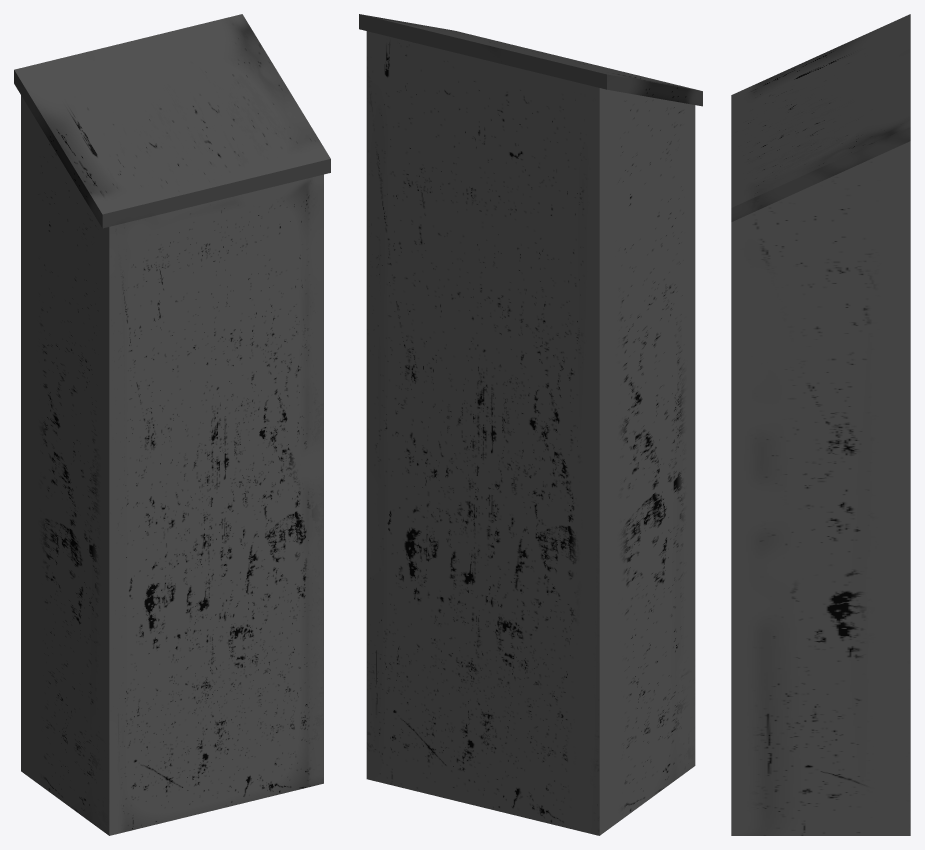
Rendered from Base_Ground_2x3_Ramp_V1.fbx.
3 renders of one model, left to right at view 1: azimuth 30°, elevation 25°; view 2: azimuth 150°, elevation 25°; view 3: azimuth 270°, elevation 25°, orthographic. The views are drawn at different scales.
Visible parts, largest first — view 1: Base Ground 2x3 Ramp V1; view 2: Base Ground 2x3 Ramp V1; view 3: Base Ground 2x3 Ramp V1.
Part boxes in pixels (x1,y1,x2,y2): Base Ground 2x3 Ramp V1: [14, 14, 330, 835]; Base Ground 2x3 Ramp V1: [359, 14, 702, 835]; Base Ground 2x3 Ramp V1: [731, 14, 910, 835].
Size of the model in its own units: 298 by 878 by 200.
